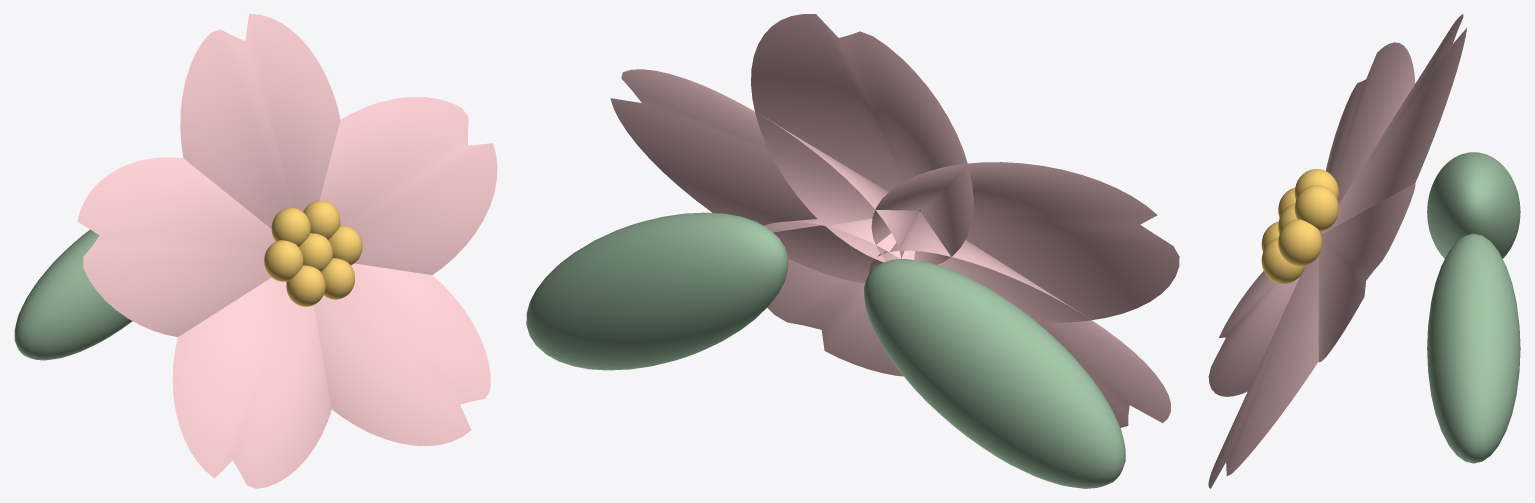
The model's file is 09-sakura-flower.glb.
3 views of the same model, side by side, from view 1: azimuth 30°, elevation 25°; view 2: azimuth 150°, elevation 25°; view 3: azimuth 270°, elevation 25° (orthographic). The views are drawn at different scales.
Visible parts, largest first — view 1: sakura_petal_1, sakura_petal_2, sakura_petal_0, sakura_petal_3, sakura_petal_4, sakura_leaf_-0.19, sakura_stamen_3, sakura_stamen_4, sakura_stamen_2, sakura_stamen_5, sakura_stamen_1, sakura_stamen_0 (+1 smaller); view 2: sakura_leaf_-0.19, sakura_petal_0, sakura_leaf_0.19, sakura_petal_1, sakura_petal_4, sakura_petal_3, sakura_petal_2; view 3: sakura_leaf_0.19, sakura_petal_3, sakura_petal_0, sakura_petal_4, sakura_leaf_-0.19, sakura_petal_1, sakura_petal_2, sakura_stamen_0, sakura_stamen_1, sakura_stamen_5, sakura_stamen_2.
Part boxes in pixels (bbox=[...]): sakura_petal_1: bbox=[77, 157, 275, 336]; sakura_petal_2: bbox=[172, 277, 331, 488]; sakura_petal_0: bbox=[180, 14, 340, 228]; sakura_petal_3: bbox=[313, 263, 490, 446]; sakura_petal_4: bbox=[319, 97, 497, 274]; sakura_leaf_-0.19: bbox=[14, 229, 132, 360]; sakura_stamen_3: bbox=[264, 240, 303, 281]; sakura_stamen_4: bbox=[286, 265, 325, 306]; sakura_stamen_2: bbox=[271, 207, 310, 246]; sakura_stamen_5: bbox=[321, 258, 354, 299]; sakura_stamen_1: bbox=[303, 200, 340, 239]; sakura_stamen_0: bbox=[328, 225, 362, 265]; sakura_leaf_-0.19: bbox=[864, 258, 1125, 488]; sakura_petal_0: bbox=[751, 14, 973, 264]; sakura_leaf_0.19: bbox=[526, 212, 788, 370]; sakura_petal_1: bbox=[871, 162, 1179, 322]; sakura_petal_4: bbox=[610, 69, 919, 282]; sakura_petal_3: bbox=[764, 218, 914, 376]; sakura_petal_2: bbox=[869, 211, 1170, 427]; sakura_leaf_0.19: bbox=[1427, 233, 1520, 463]; sakura_petal_3: bbox=[1208, 256, 1318, 488]; sakura_petal_0: bbox=[1321, 14, 1466, 234]; sakura_petal_4: bbox=[1318, 183, 1415, 362]; sakura_leaf_-0.19: bbox=[1427, 152, 1520, 258]; sakura_petal_1: bbox=[1326, 42, 1415, 204]; sakura_petal_2: bbox=[1208, 271, 1300, 396]; sakura_stamen_0: bbox=[1278, 219, 1322, 265]; sakura_stamen_1: bbox=[1294, 185, 1338, 231]; sakura_stamen_5: bbox=[1261, 237, 1304, 283]; sakura_stamen_2: bbox=[1294, 169, 1338, 199].
Size of the model in its own units: 0.6679 by 0.5319 by 0.3673.
